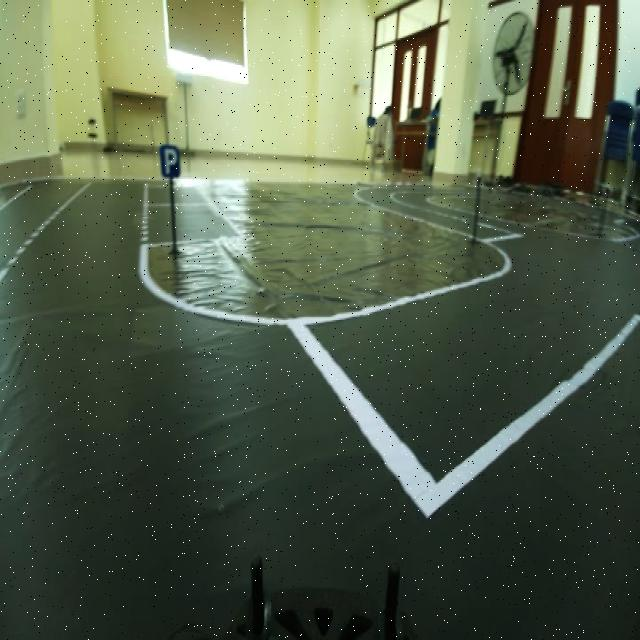parking: (154, 138, 184, 184)
